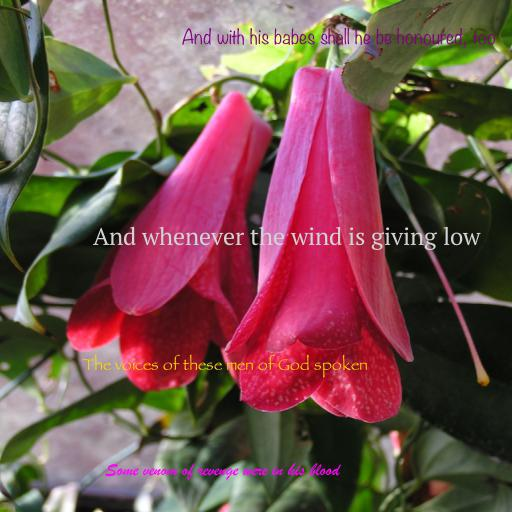Brush Script MT: (104, 463, 340, 480)
Noteworthy: (182, 27, 496, 48)
PT Serif: (92, 226, 480, 250)
Papyrus: (82, 354, 368, 378)
